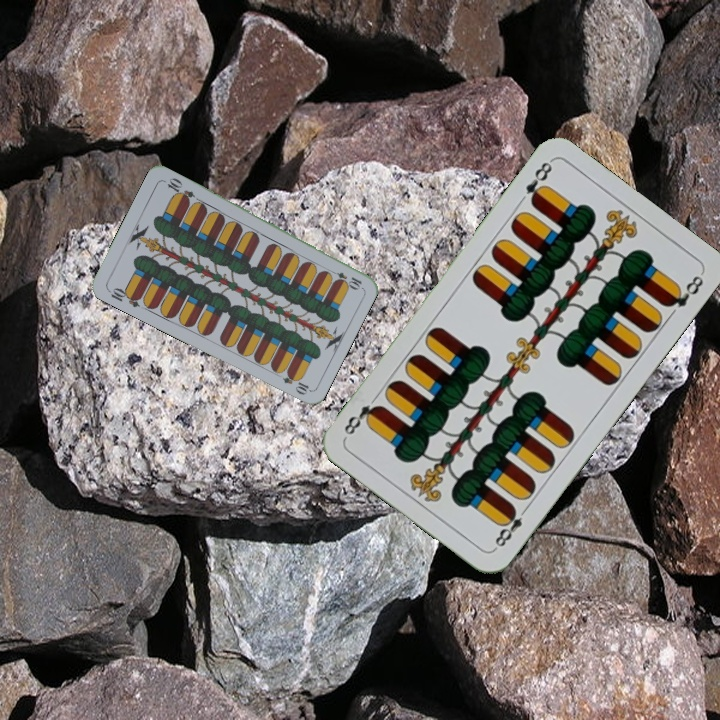E10: (104, 283, 144, 310), (325, 266, 364, 291)
E8: (490, 502, 532, 552), (521, 156, 555, 209)
